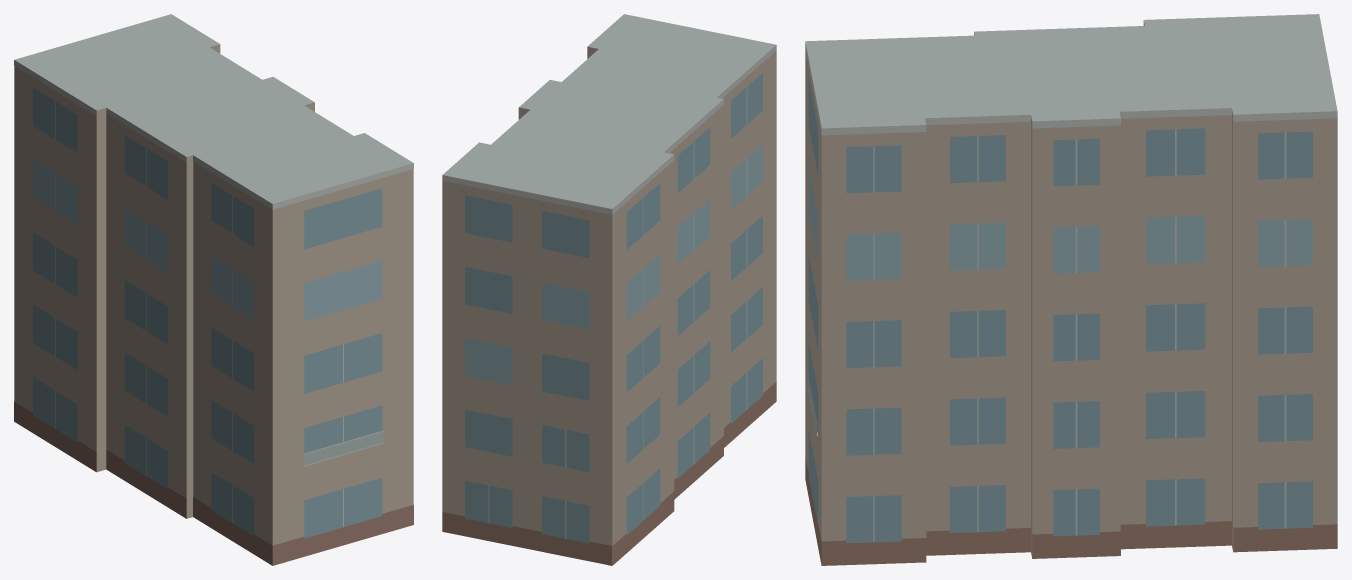
The model's file is survey-upis-32757556.glb.
The picture shows the model from 3 angles, left to right: view 1: azimuth 30°, elevation 25°; view 2: azimuth 150°, elevation 25°; view 3: azimuth 270°, elevation 25°; orthographic projection. The views are drawn at different scales.
Parts seen in each view (by area): view 1: survey-upis-32757556.tmp; view 2: survey-upis-32757556.tmp; view 3: survey-upis-32757556.tmp.
Boxes of the visible parts, left/top/right/bottom form: survey-upis-32757556.tmp: left=14, top=14, right=413, bottom=565; survey-upis-32757556.tmp: left=442, top=14, right=776, bottom=565; survey-upis-32757556.tmp: left=805, top=14, right=1337, bottom=565.
Bounding box in the file's own units: 8.56 × 15.25 × 16.83.
